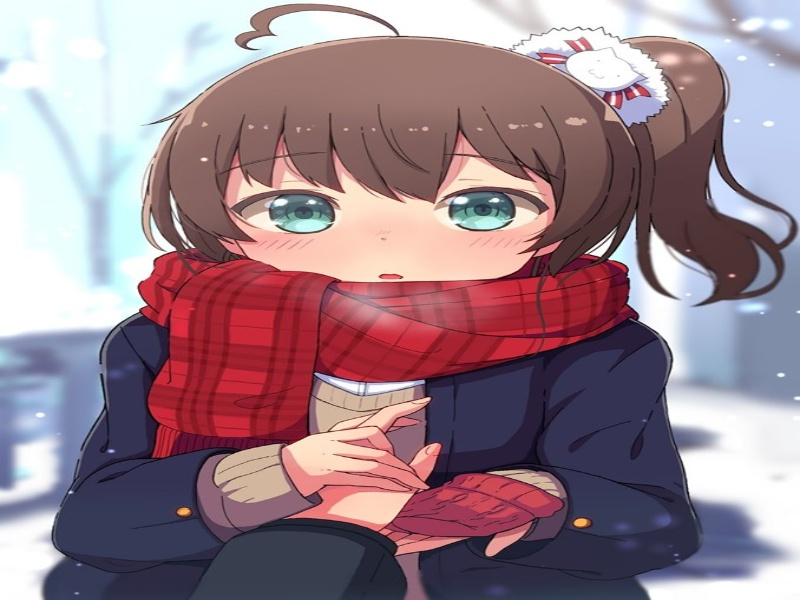person: (141, 22, 667, 322)
